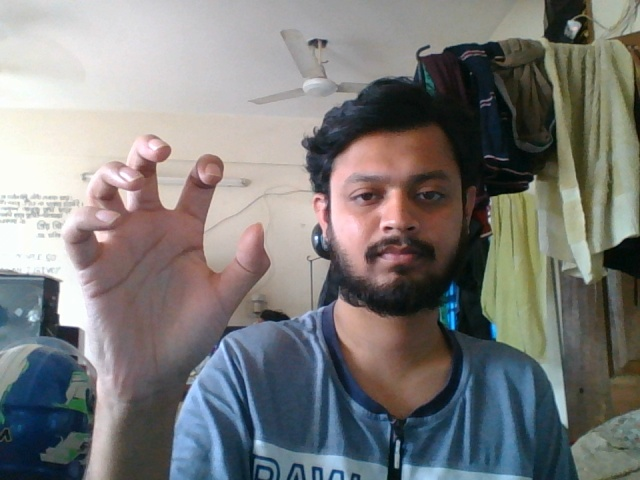ja: (53, 125, 280, 418)
